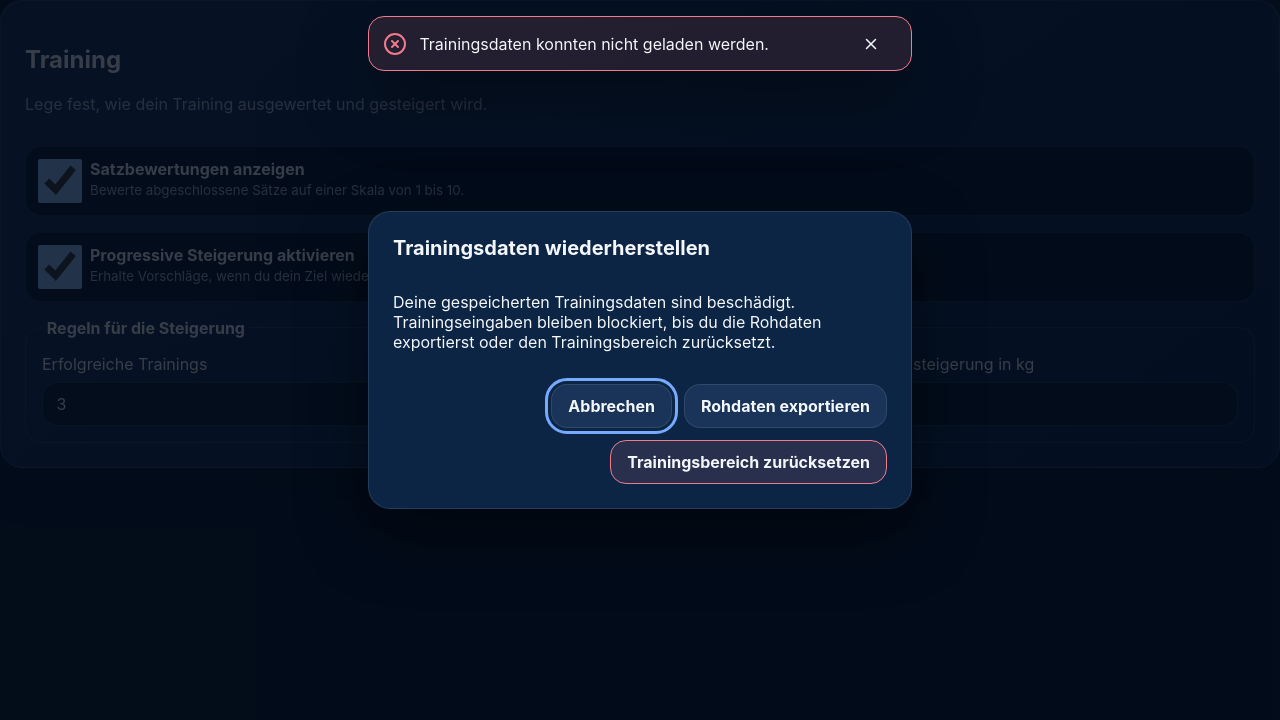
TrainingRecoveryDialog › requires confirmation before resetting corrupted training data
This screenshot has width=1280, height=720.
Click the button "Trainingsbereich zurücksetzen": [749, 462] box [610, 440, 887, 484]
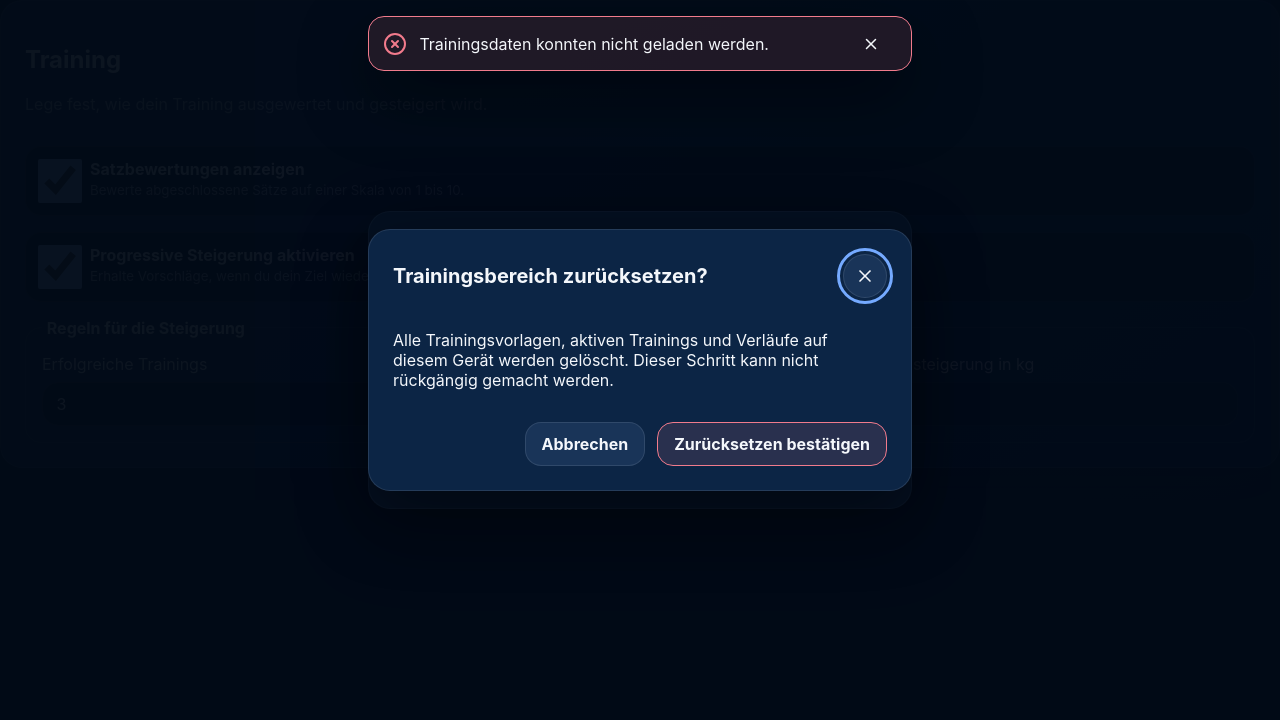
Click the button "Zurücksetzen bestätigen": [772, 444] box [657, 422, 887, 466]
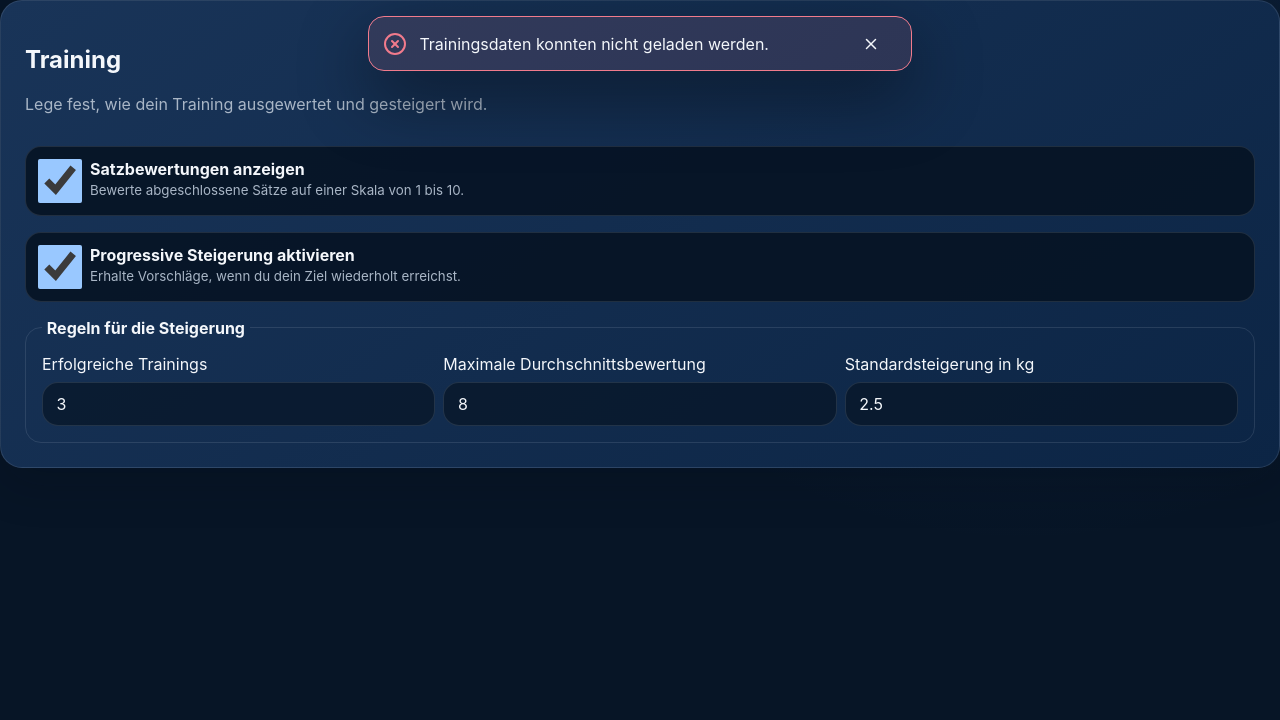
Check: the heading "Trainingsdaten wiederherstellen" is gone
